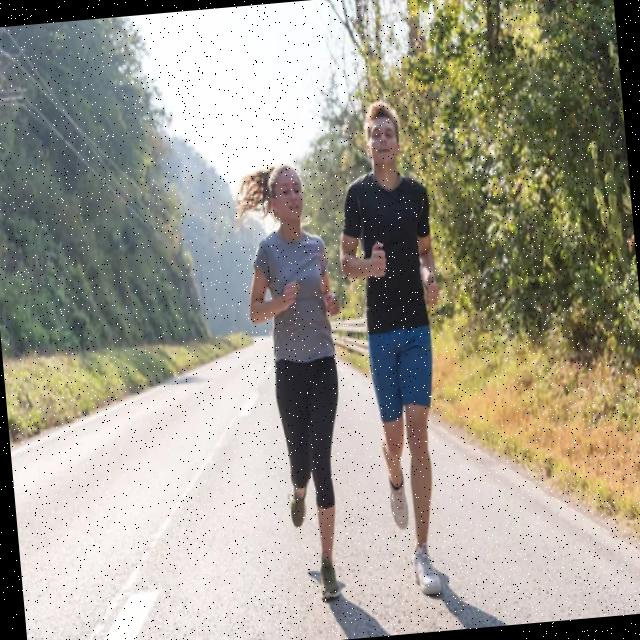Person: (324, 99, 464, 603), (236, 157, 366, 608)
